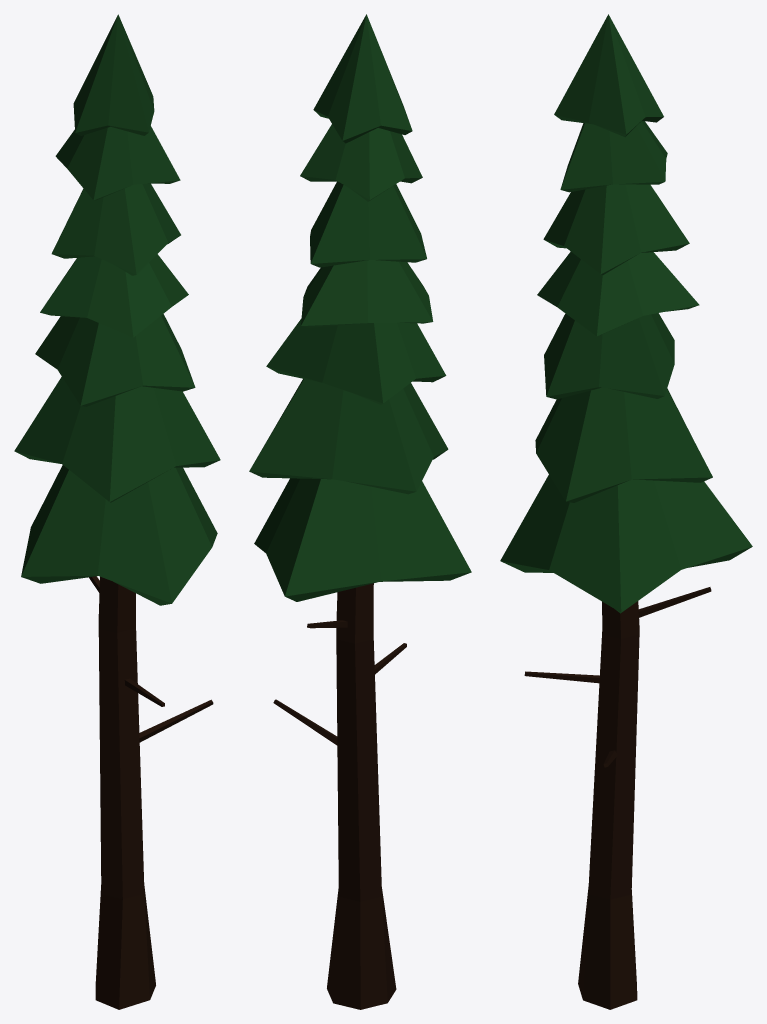
File: tree_lvl_21.obj
3 views of the same model, side by side, from view 1: azimuth 30°, elevation 25°; view 2: azimuth 150°, elevation 25°; view 3: azimuth 270°, elevation 25° (orthographic).
Bounding box in the file's own units: 3.08 × 13.93 × 3.27.
